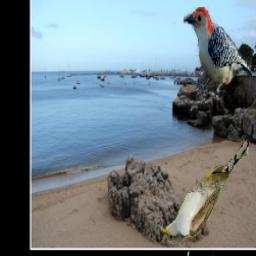Cuckoo: (157, 136, 252, 245)
Woodpecker: (185, 8, 253, 100)
